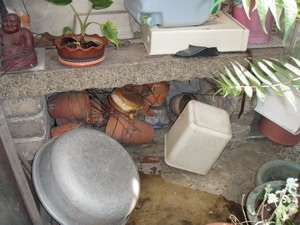bowl: (30, 126, 142, 225), (109, 87, 145, 116), (126, 116, 155, 147), (46, 92, 73, 121), (144, 82, 170, 107), (169, 92, 192, 116)
box: (140, 9, 251, 55)
bucket: (161, 99, 233, 175), (123, 1, 213, 28)
plate: (56, 54, 106, 68)
